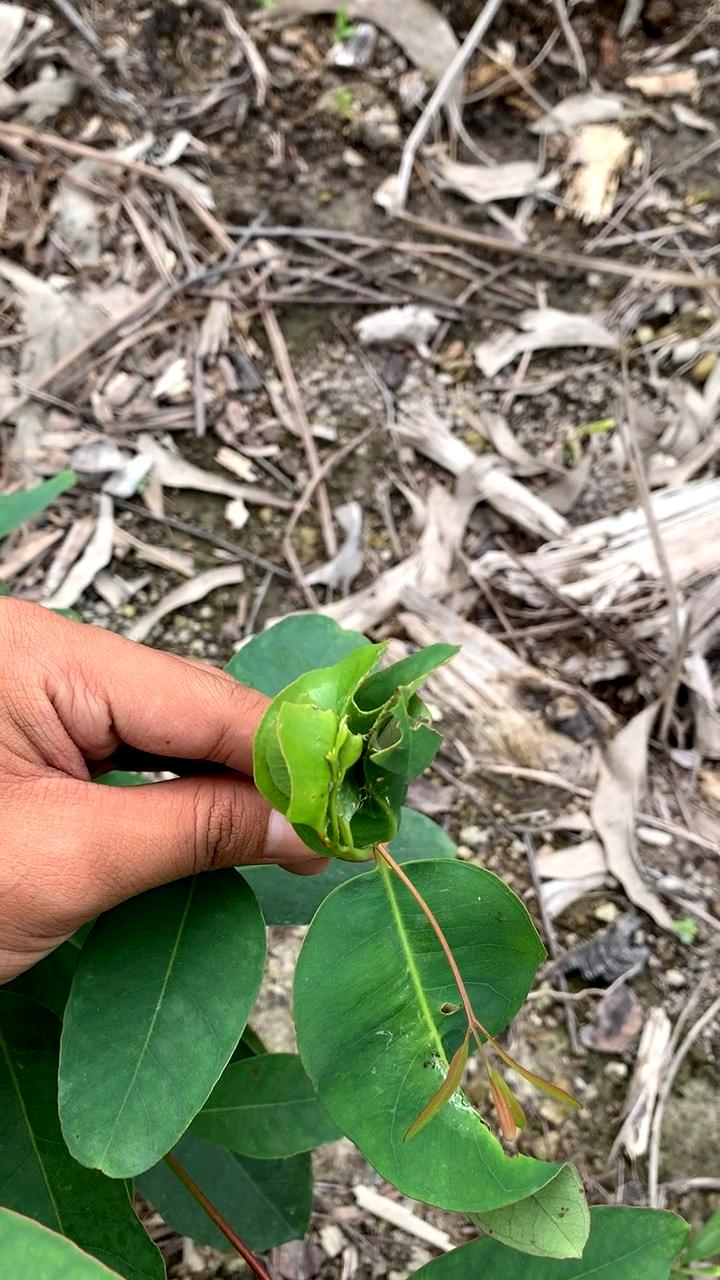Leaf Roller - Leaf: (246, 638, 471, 851)
